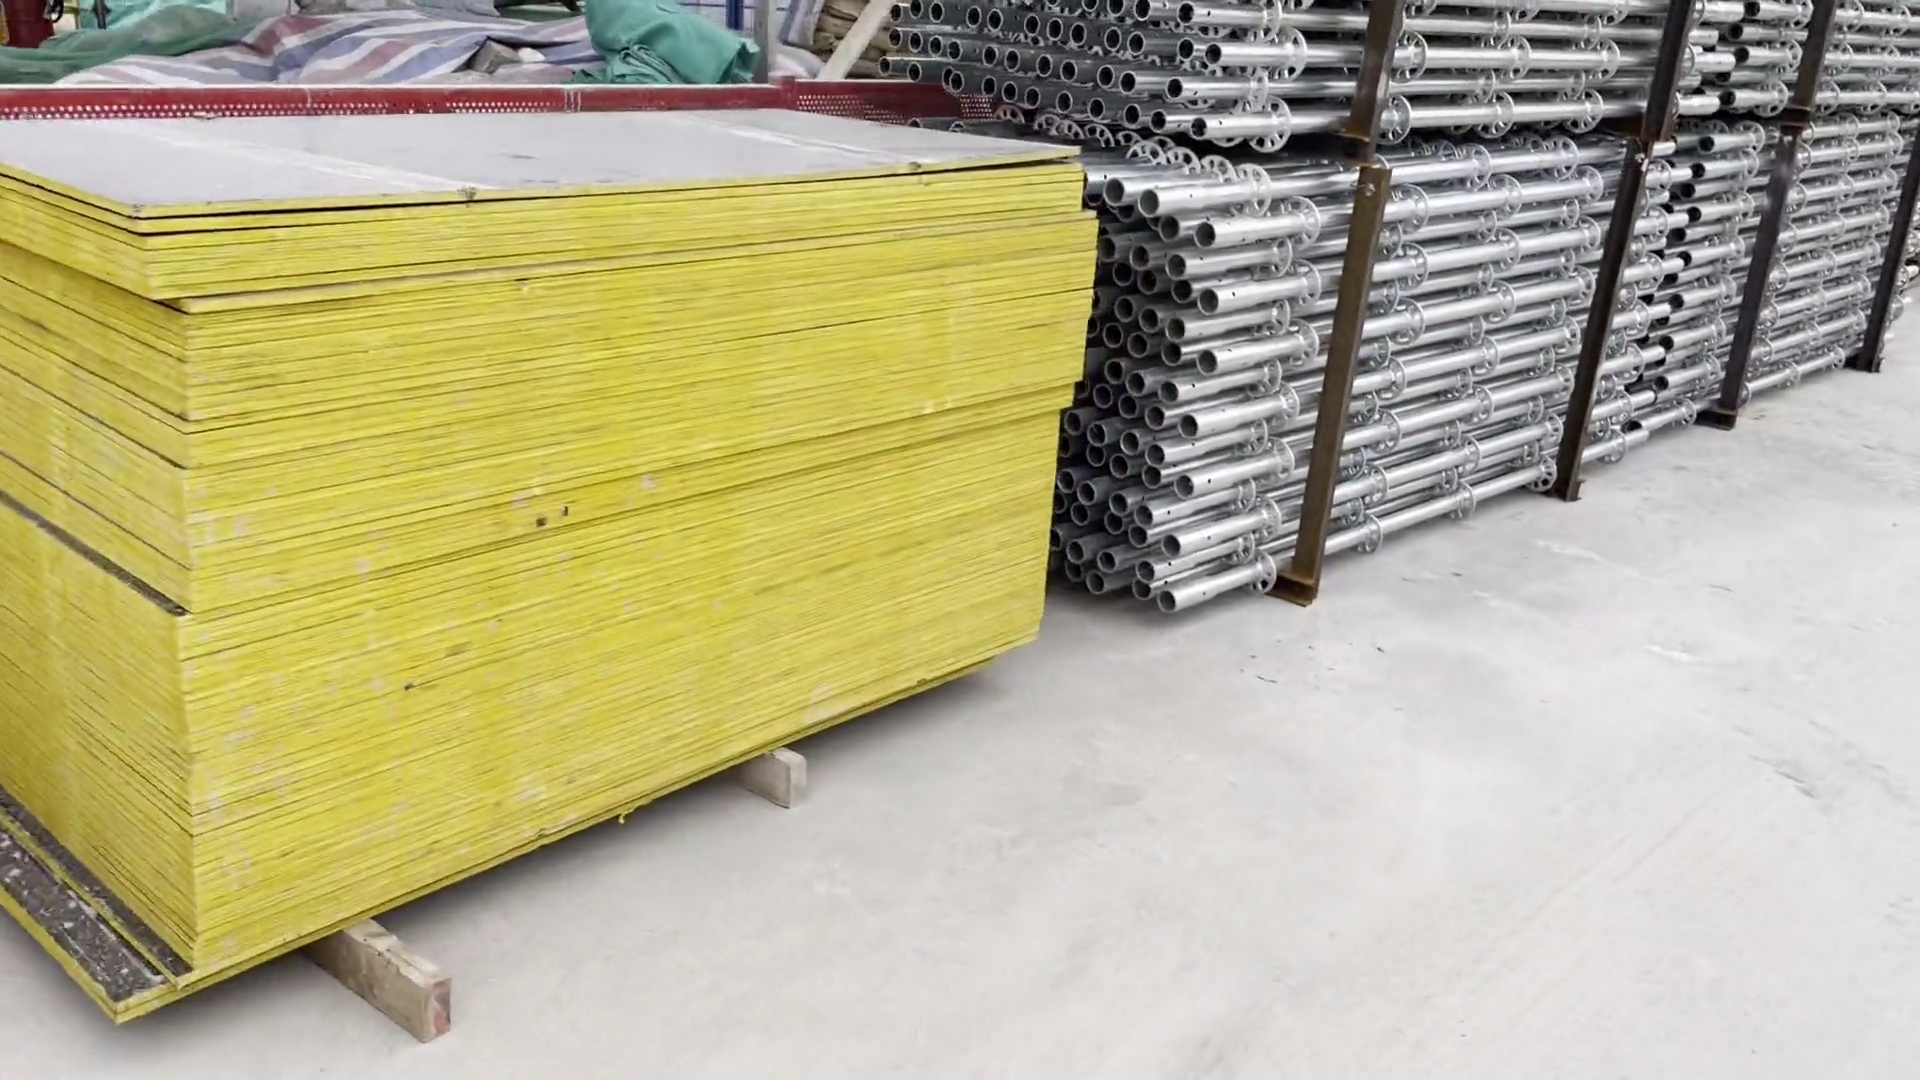board: (1, 75, 1151, 1026)
scaffold: (862, 1, 1575, 612), (1578, 17, 1920, 489)
